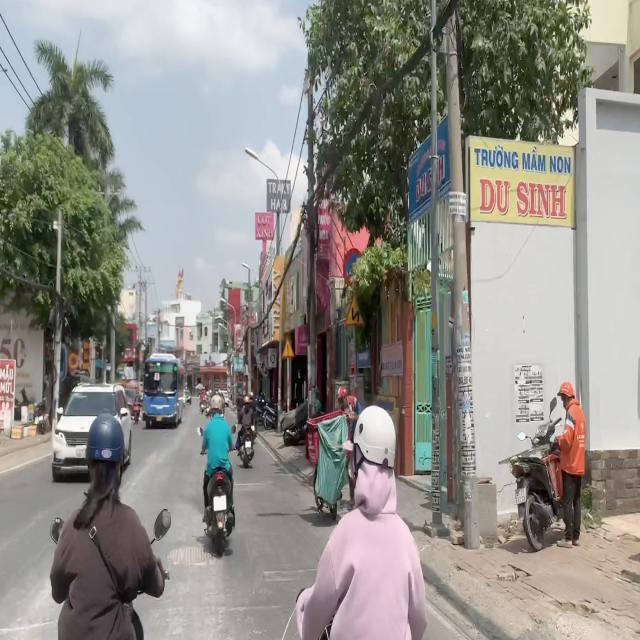Nguy hiem: (345, 292, 364, 326), (280, 334, 296, 362)
